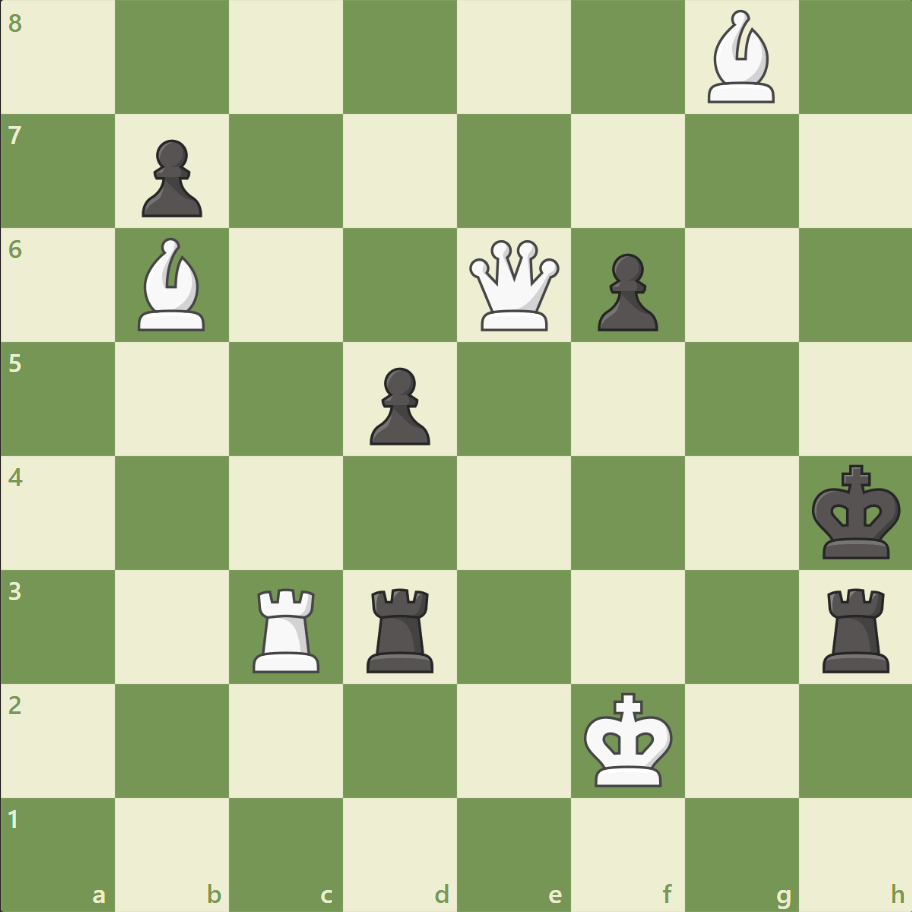B: (698, 6, 782, 109), (131, 233, 215, 336)
K: (579, 685, 679, 793)
Q: (464, 236, 563, 335)
R: (246, 579, 329, 676)
k: (806, 458, 906, 566)
p: (133, 132, 208, 223), (588, 246, 662, 337), (361, 359, 435, 450)
r: (814, 579, 897, 676), (360, 579, 442, 676)
